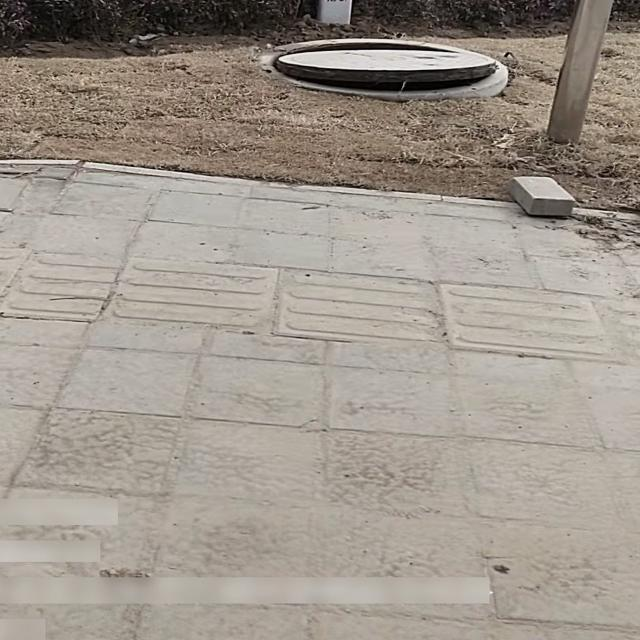uncovered: (259, 30, 510, 105)
